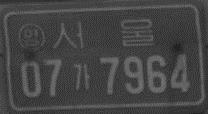0: (18, 58, 43, 99)
4: (169, 52, 192, 93)
6: (146, 54, 167, 93)
7: (98, 54, 120, 97), (41, 57, 63, 98)
9: (122, 55, 145, 95)
가: (71, 62, 91, 92)
서울_D: (51, 17, 155, 52)
영: (17, 22, 46, 51)
